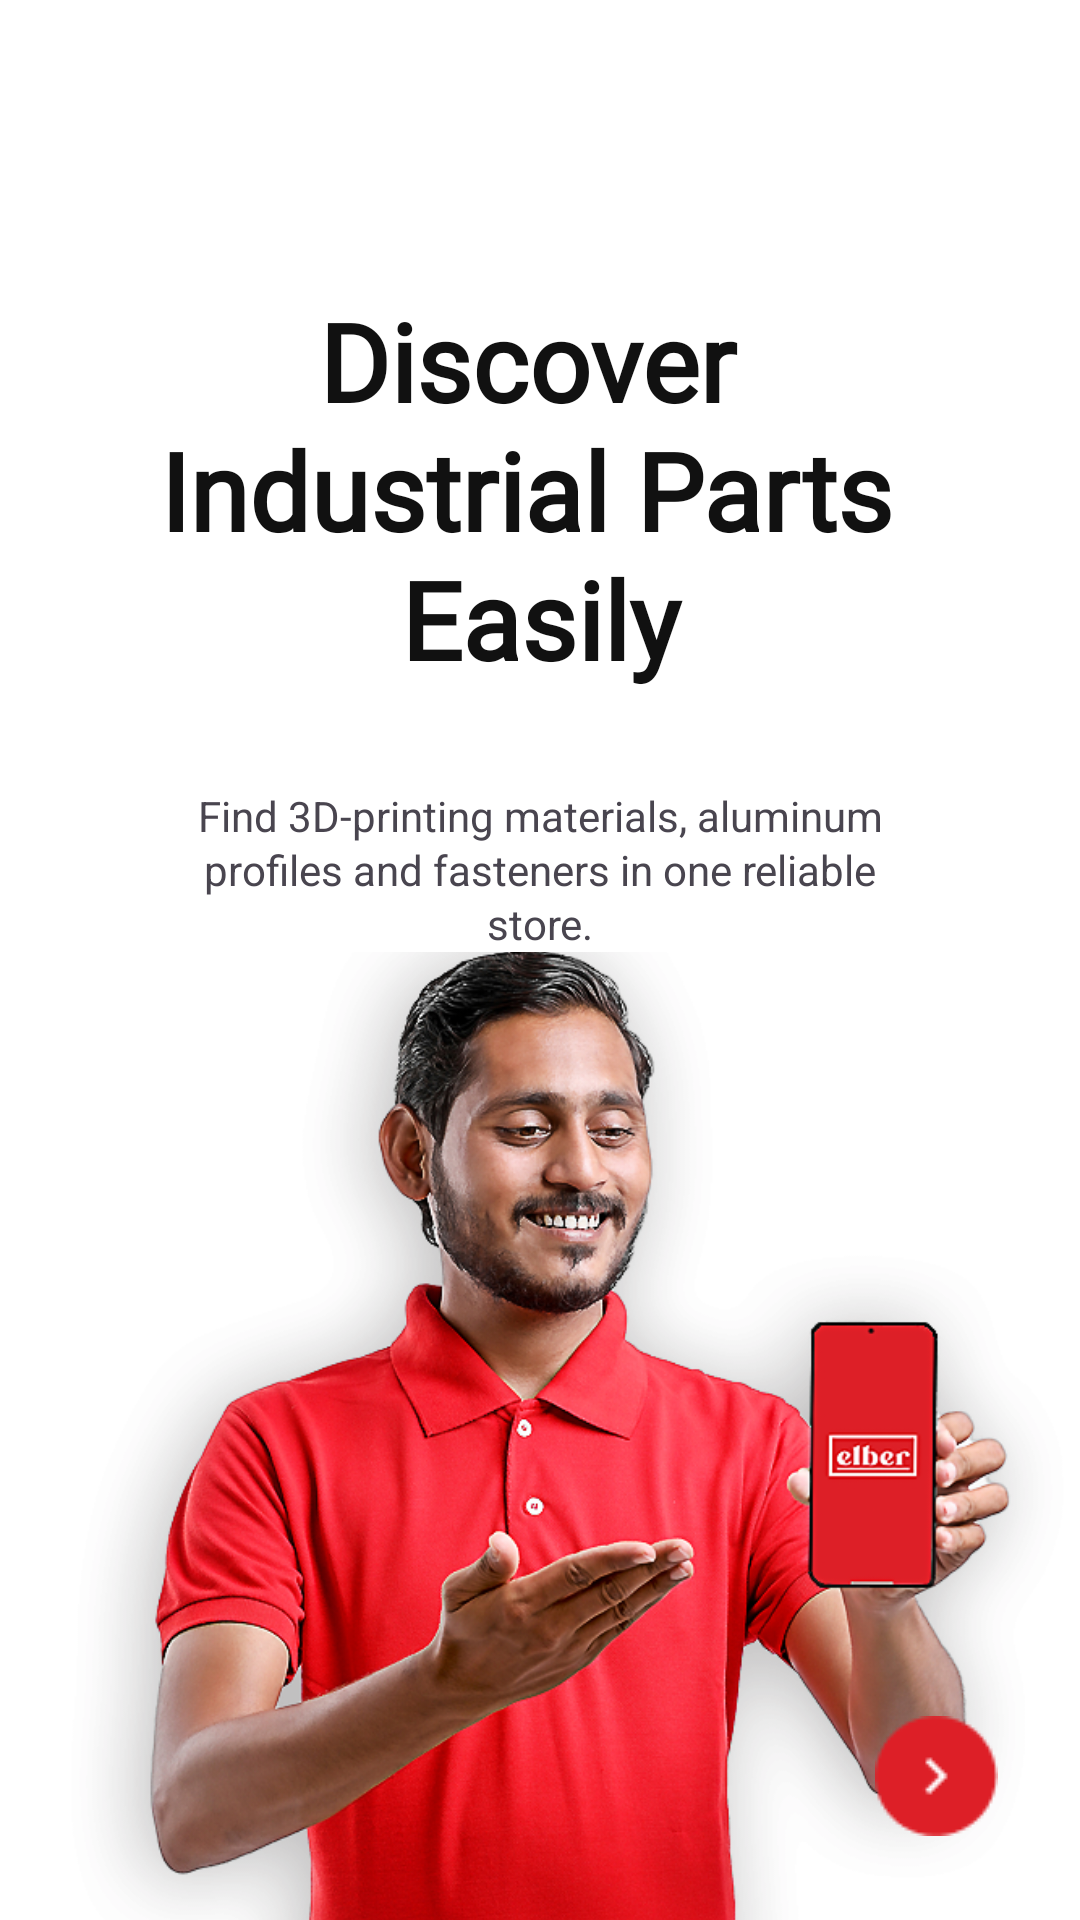

Icon click points for this 1080x1920 phone screenshot, format [x,y]:
Next: [931,1770]
